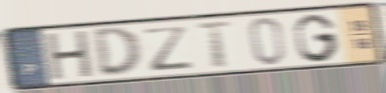0: (247, 16, 288, 67)
D: (91, 25, 145, 78)
G: (292, 12, 341, 64)
H: (45, 28, 95, 83)
T: (194, 20, 236, 70)
Z: (140, 24, 196, 73)
